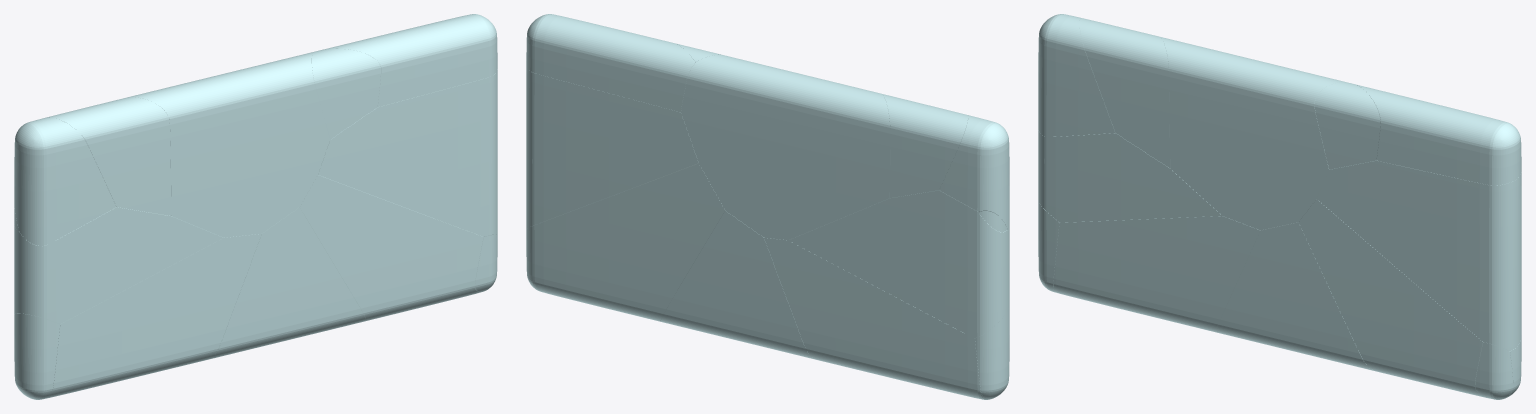
The model's file is shatteredMid.glb.
3 views of the same model, side by side, from view 1: azimuth 30°, elevation 25°; view 2: azimuth 150°, elevation 25°; view 3: azimuth 330°, elevation 25° (orthographic).
Parts seen in each view (by area): view 1: Cube.001_cell.040; view 2: Cube.001_cell.040; view 3: Cube.001_cell.040.
Boxes of the visible parts, x1,y1,x2,y2 form: Cube.001_cell.040: (14, 14, 497, 399); Cube.001_cell.040: (526, 14, 1009, 399); Cube.001_cell.040: (1038, 14, 1521, 399).
Bounding box in the file's own units: 10.52 × 5.81 × 0.9687.
